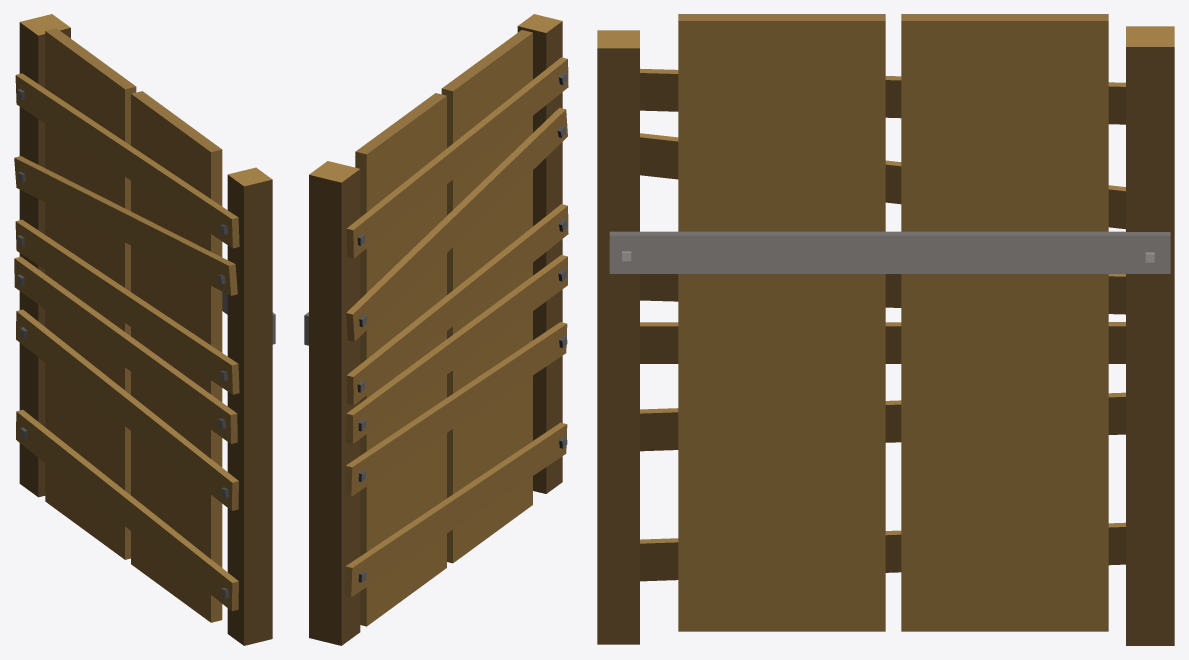
Rendered from FenceWoodL_Patched_02.fbx.
The picture shows the model from 3 angles, left to right: view 1: azimuth 30°, elevation 25°; view 2: azimuth 150°, elevation 25°; view 3: azimuth 270°, elevation 25°; orthographic projection. The views are drawn at different scales.
Visible parts, largest first — view 1: FenceWoodL_Patched_02; view 2: FenceWoodL_Patched_02; view 3: FenceWoodL_Patched_02.
Boxes of the visible parts, x1,y1,x2,y2 form: FenceWoodL_Patched_02: (14,14,275,645); FenceWoodL_Patched_02: (304,14,568,645); FenceWoodL_Patched_02: (597,14,1174,645).
Bounding box in the file's own units: 0.7068 × 5.16 × 6.03.
